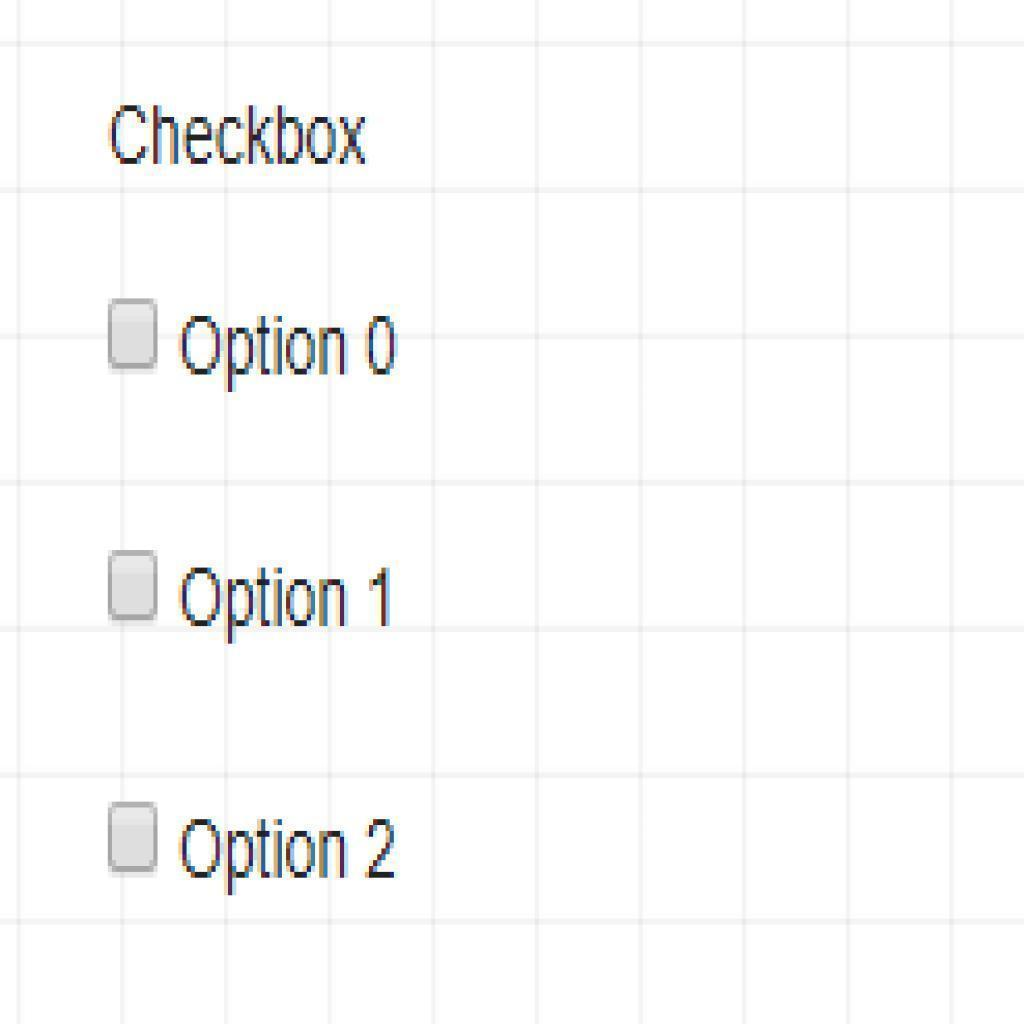checkbox: (108, 549, 160, 622), (107, 802, 160, 872), (107, 301, 159, 369)
label: (176, 300, 403, 390), (179, 810, 399, 898), (179, 560, 396, 647)
